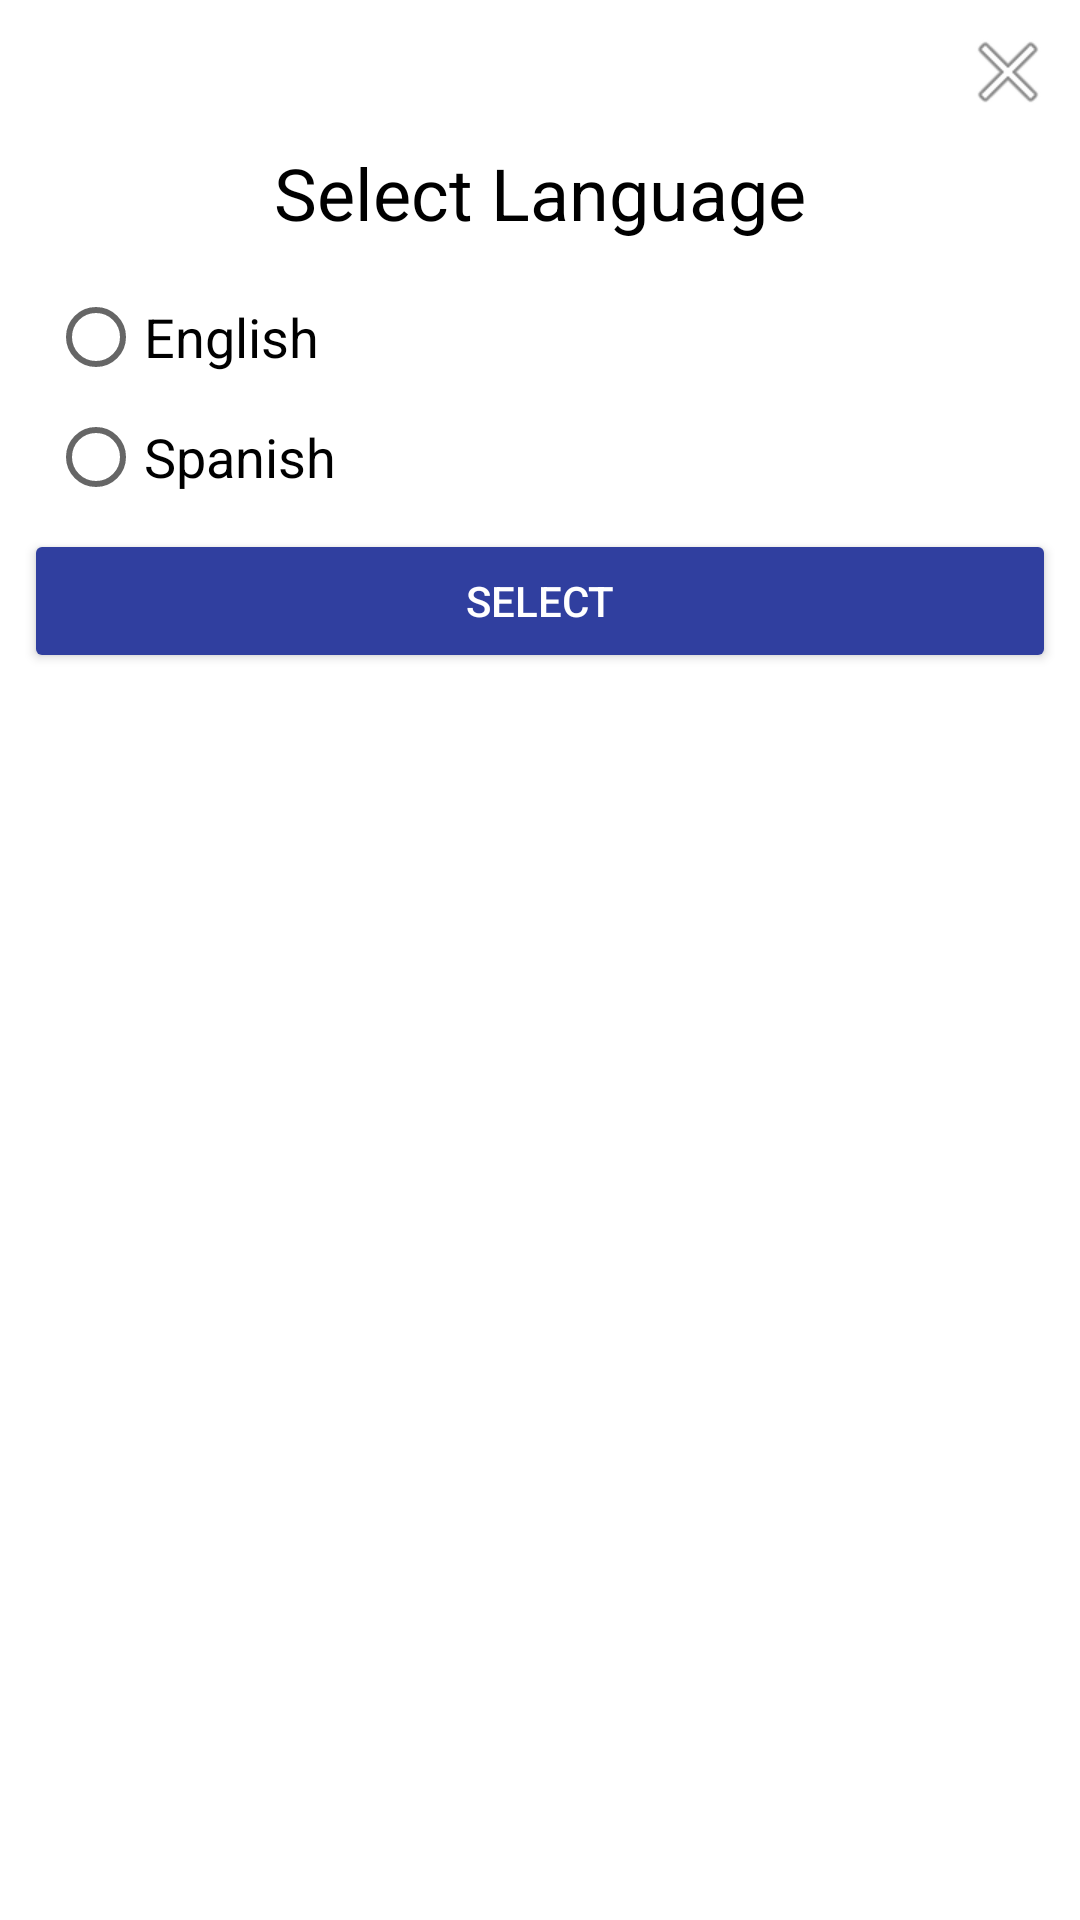

Icons on this 1080px x 1920px Android screen, each with its box as (x1, y1, x2, y2):
close clear cancel: (978, 42, 1038, 102)
